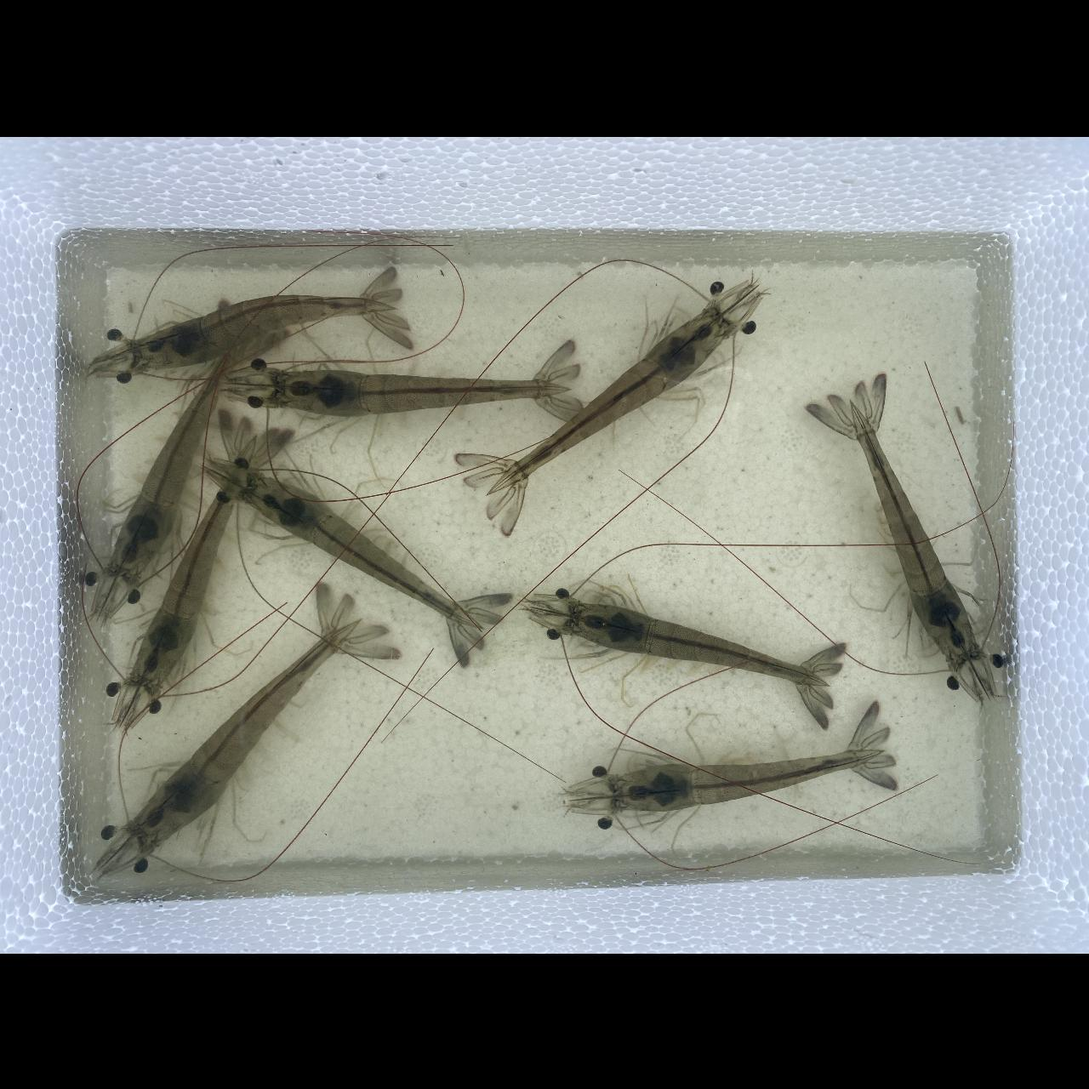top_shrimp: (133, 616, 362, 847), (487, 311, 727, 496), (246, 477, 486, 628), (111, 330, 243, 576), (851, 404, 974, 658), (134, 434, 255, 686), (569, 601, 833, 687), (133, 294, 397, 369), (612, 749, 883, 811), (276, 369, 571, 415)
